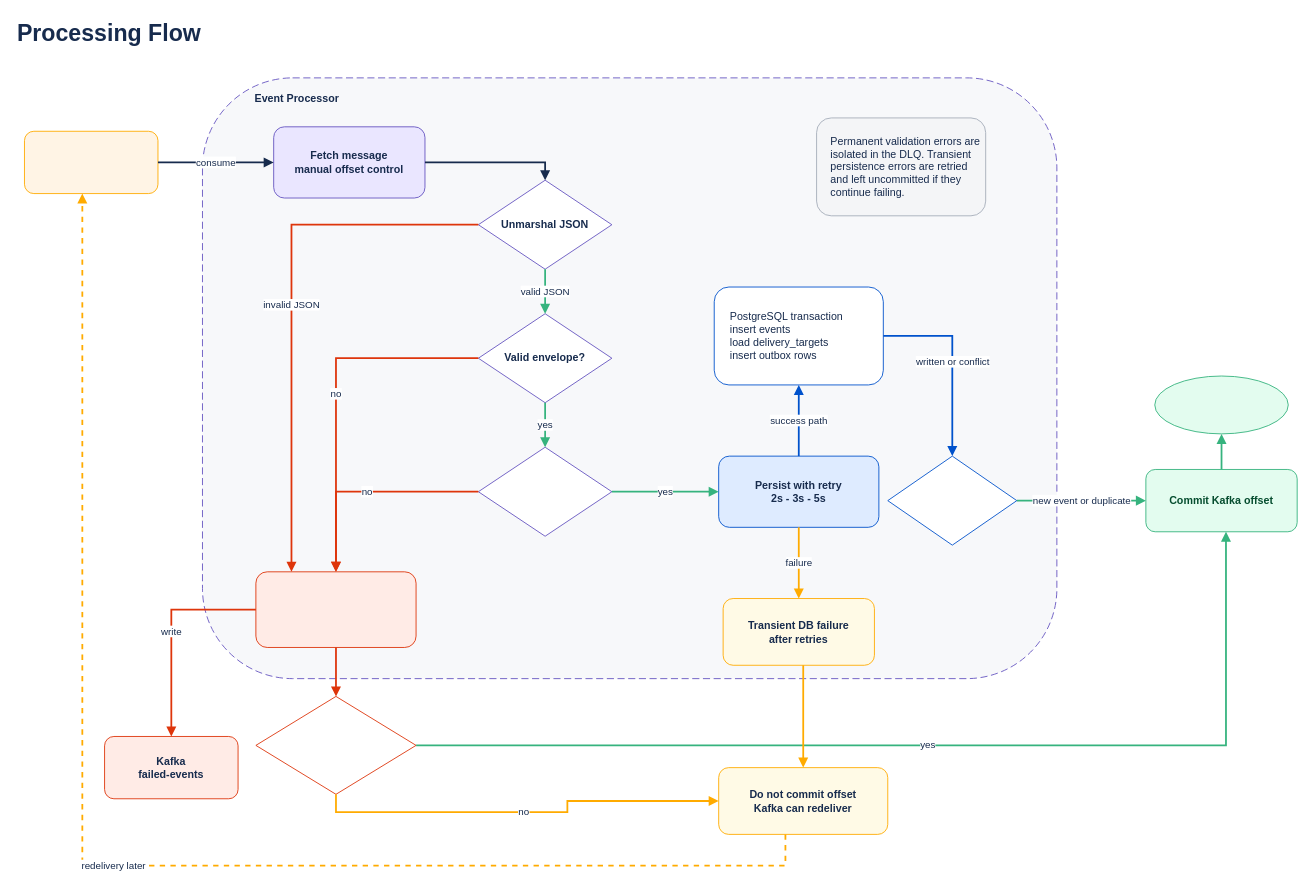
Some shapes in this 1313 by 888 pixel diagram are drawn without their labels. The centre of each missing label's shape, as x and y in pixels:
"DLQ publish succeeded?" goes at (x=335, y=745).
"Duplicate event?" goes at (x=952, y=500).
"Kafka raw-events" goes at (x=91, y=162).
"Message processed" goes at (x=1221, y=404).
"Publish failure to DLQ original message + reason" goes at (x=335, y=609).
"Valid payload schema?" goes at (x=544, y=491).
